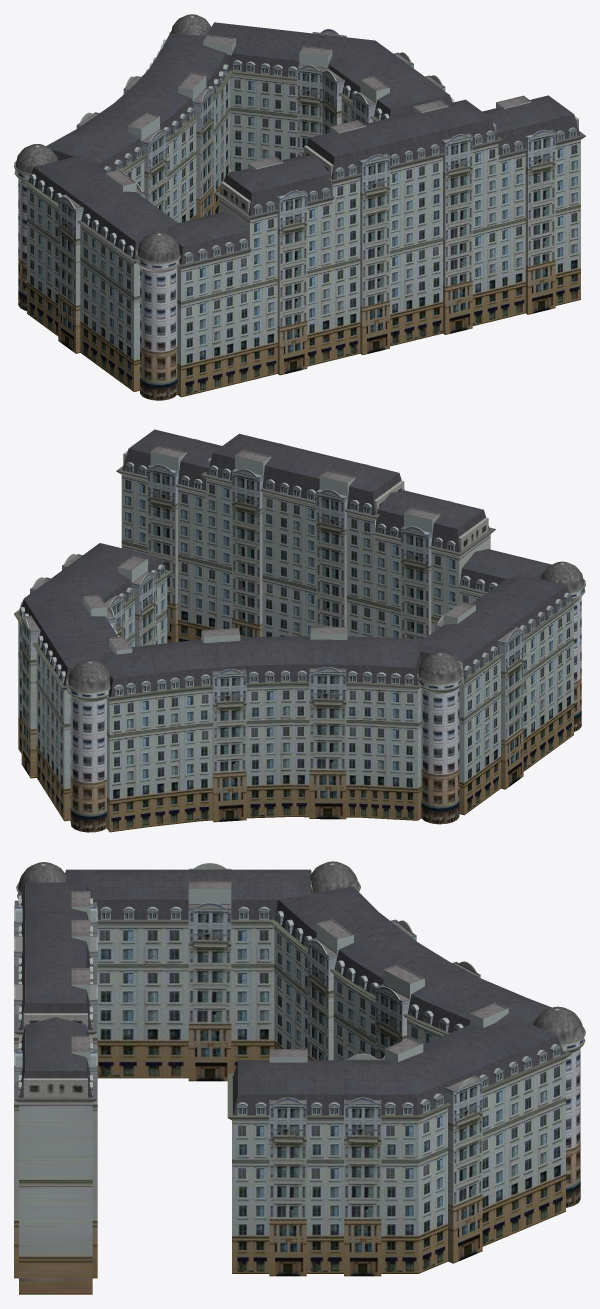
The picture shows the model from 3 angles, top to bottom: view 1: azimuth 30°, elevation 25°; view 2: azimuth 150°, elevation 25°; view 3: azimuth 270°, elevation 25°; orthographic projection. The views are drawn at different scales.
Parts seen in each view (by area): view 1: HN1354_CT4SongDa; view 2: HN1354_CT4SongDa; view 3: HN1354_CT4SongDa.
Part boxes in pixels (x1,y1,x2,y2): HN1354_CT4SongDa: (14, 14, 585, 400); HN1354_CT4SongDa: (14, 429, 585, 832); HN1354_CT4SongDa: (14, 861, 585, 1294).
Bounding box in the file's own units: 103 × 46.64 × 97.34.
Materials: 1 (1 with a texture image).
